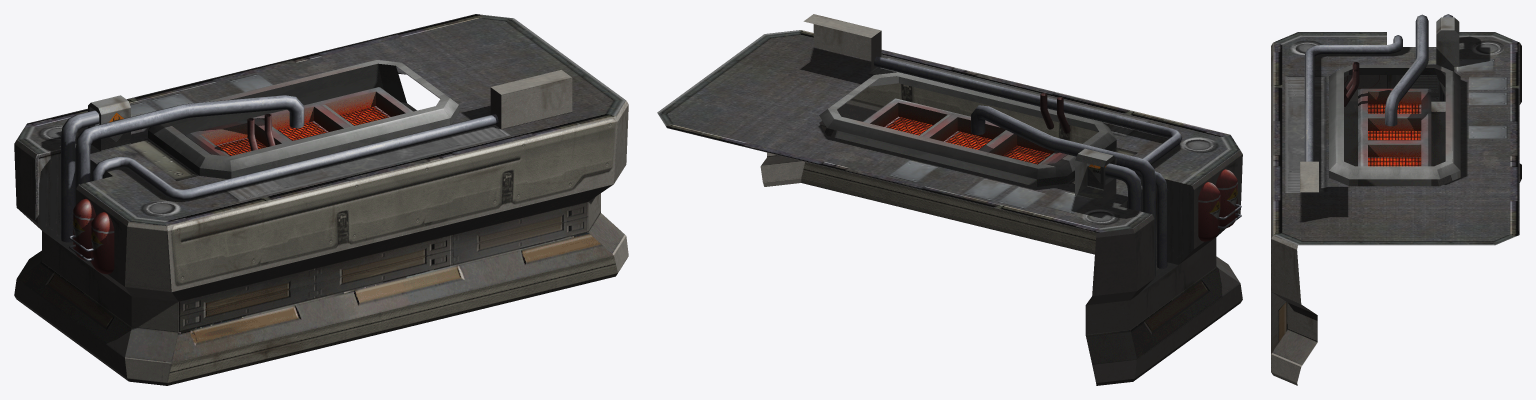
File: ML2_Generator.FBX
3 renders of one model, left to right at view 1: azimuth 30°, elevation 25°; view 2: azimuth 150°, elevation 25°; view 3: azimuth 270°, elevation 25°, orthographic. The views are drawn at different scales.
Visible parts, largest first — view 1: ML2_Generator; view 2: ML2_Generator; view 3: ML2_Generator.
Part boxes in pixels (x1=…): ML2_Generator: x1=14, y1=14, x2=628, y2=385; ML2_Generator: x1=657, y1=14, x2=1242, y2=385; ML2_Generator: x1=1271, y1=14, x2=1521, y2=385.
Size of the model in its own units: 32.21 by 11.88 by 15.25.
1 material, 1 textured.
